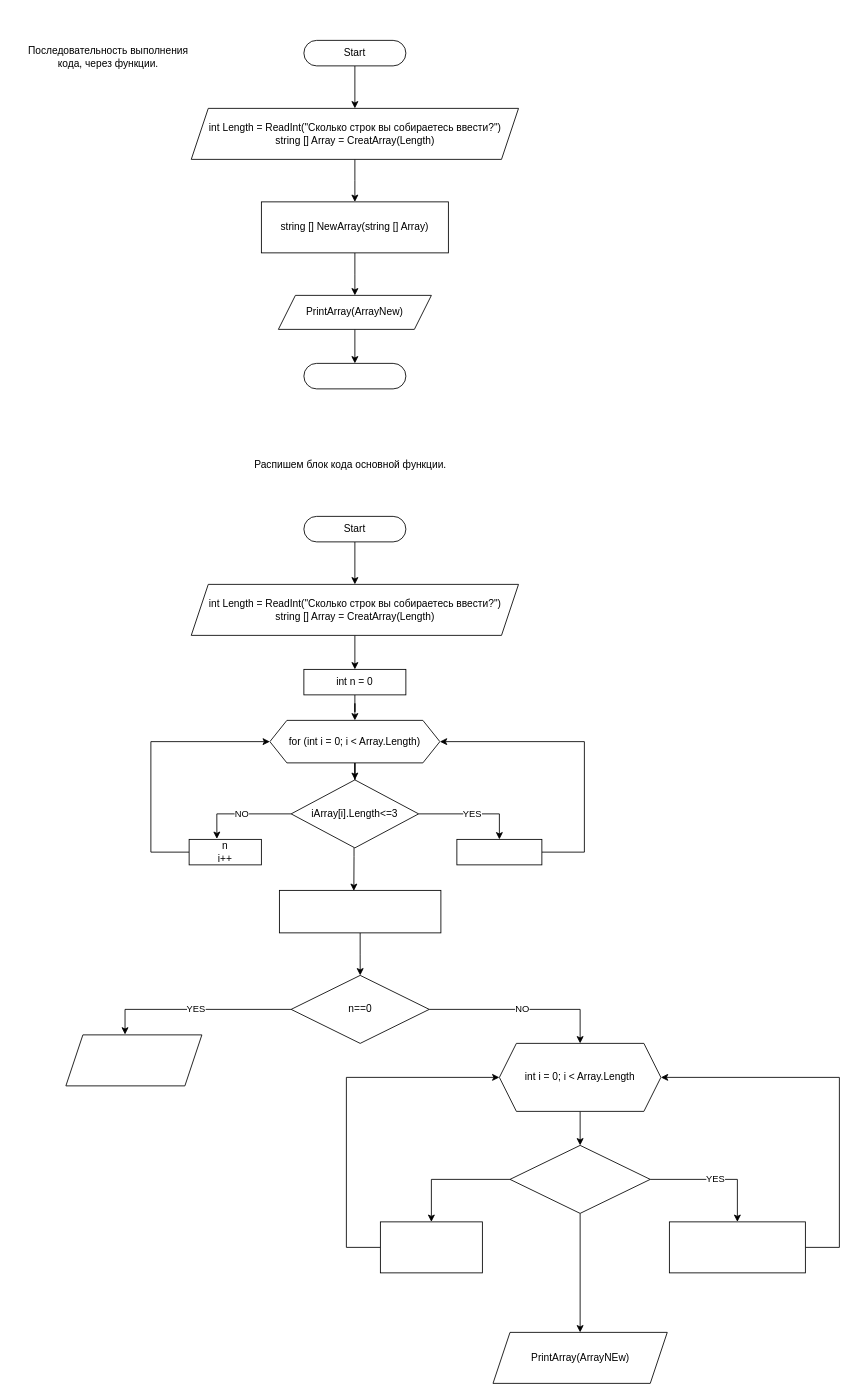
Image size: 861x1398. Some labels were removed from this diagram. The shapes that lost their labels are listed below. From the top down, each one's centre as x and y in pixels, then its label:
the point at 354,376: End
the point at 499,852: n++ i++
the point at 360,911: int m = 0 string [] Array1 = new string[n]
the point at 133,1060: Console.WriteLine("[]")
the point at 579,1179: Array[i]Length <=3
the point at 431,1247: m i++
the point at 737,1247: Array1[m] = Array[i] m++ i++
